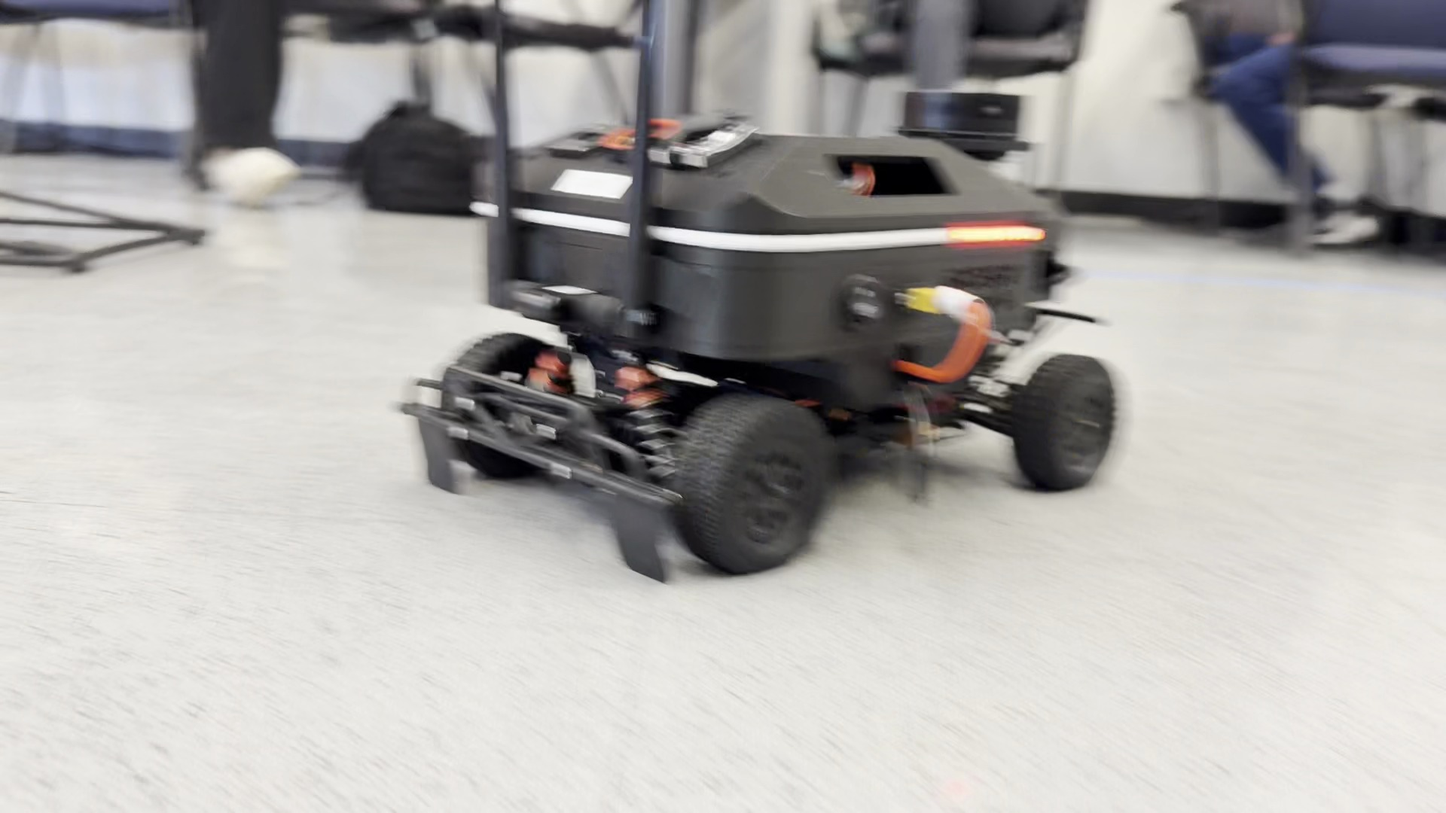racecar: (399, 124, 1116, 588)
